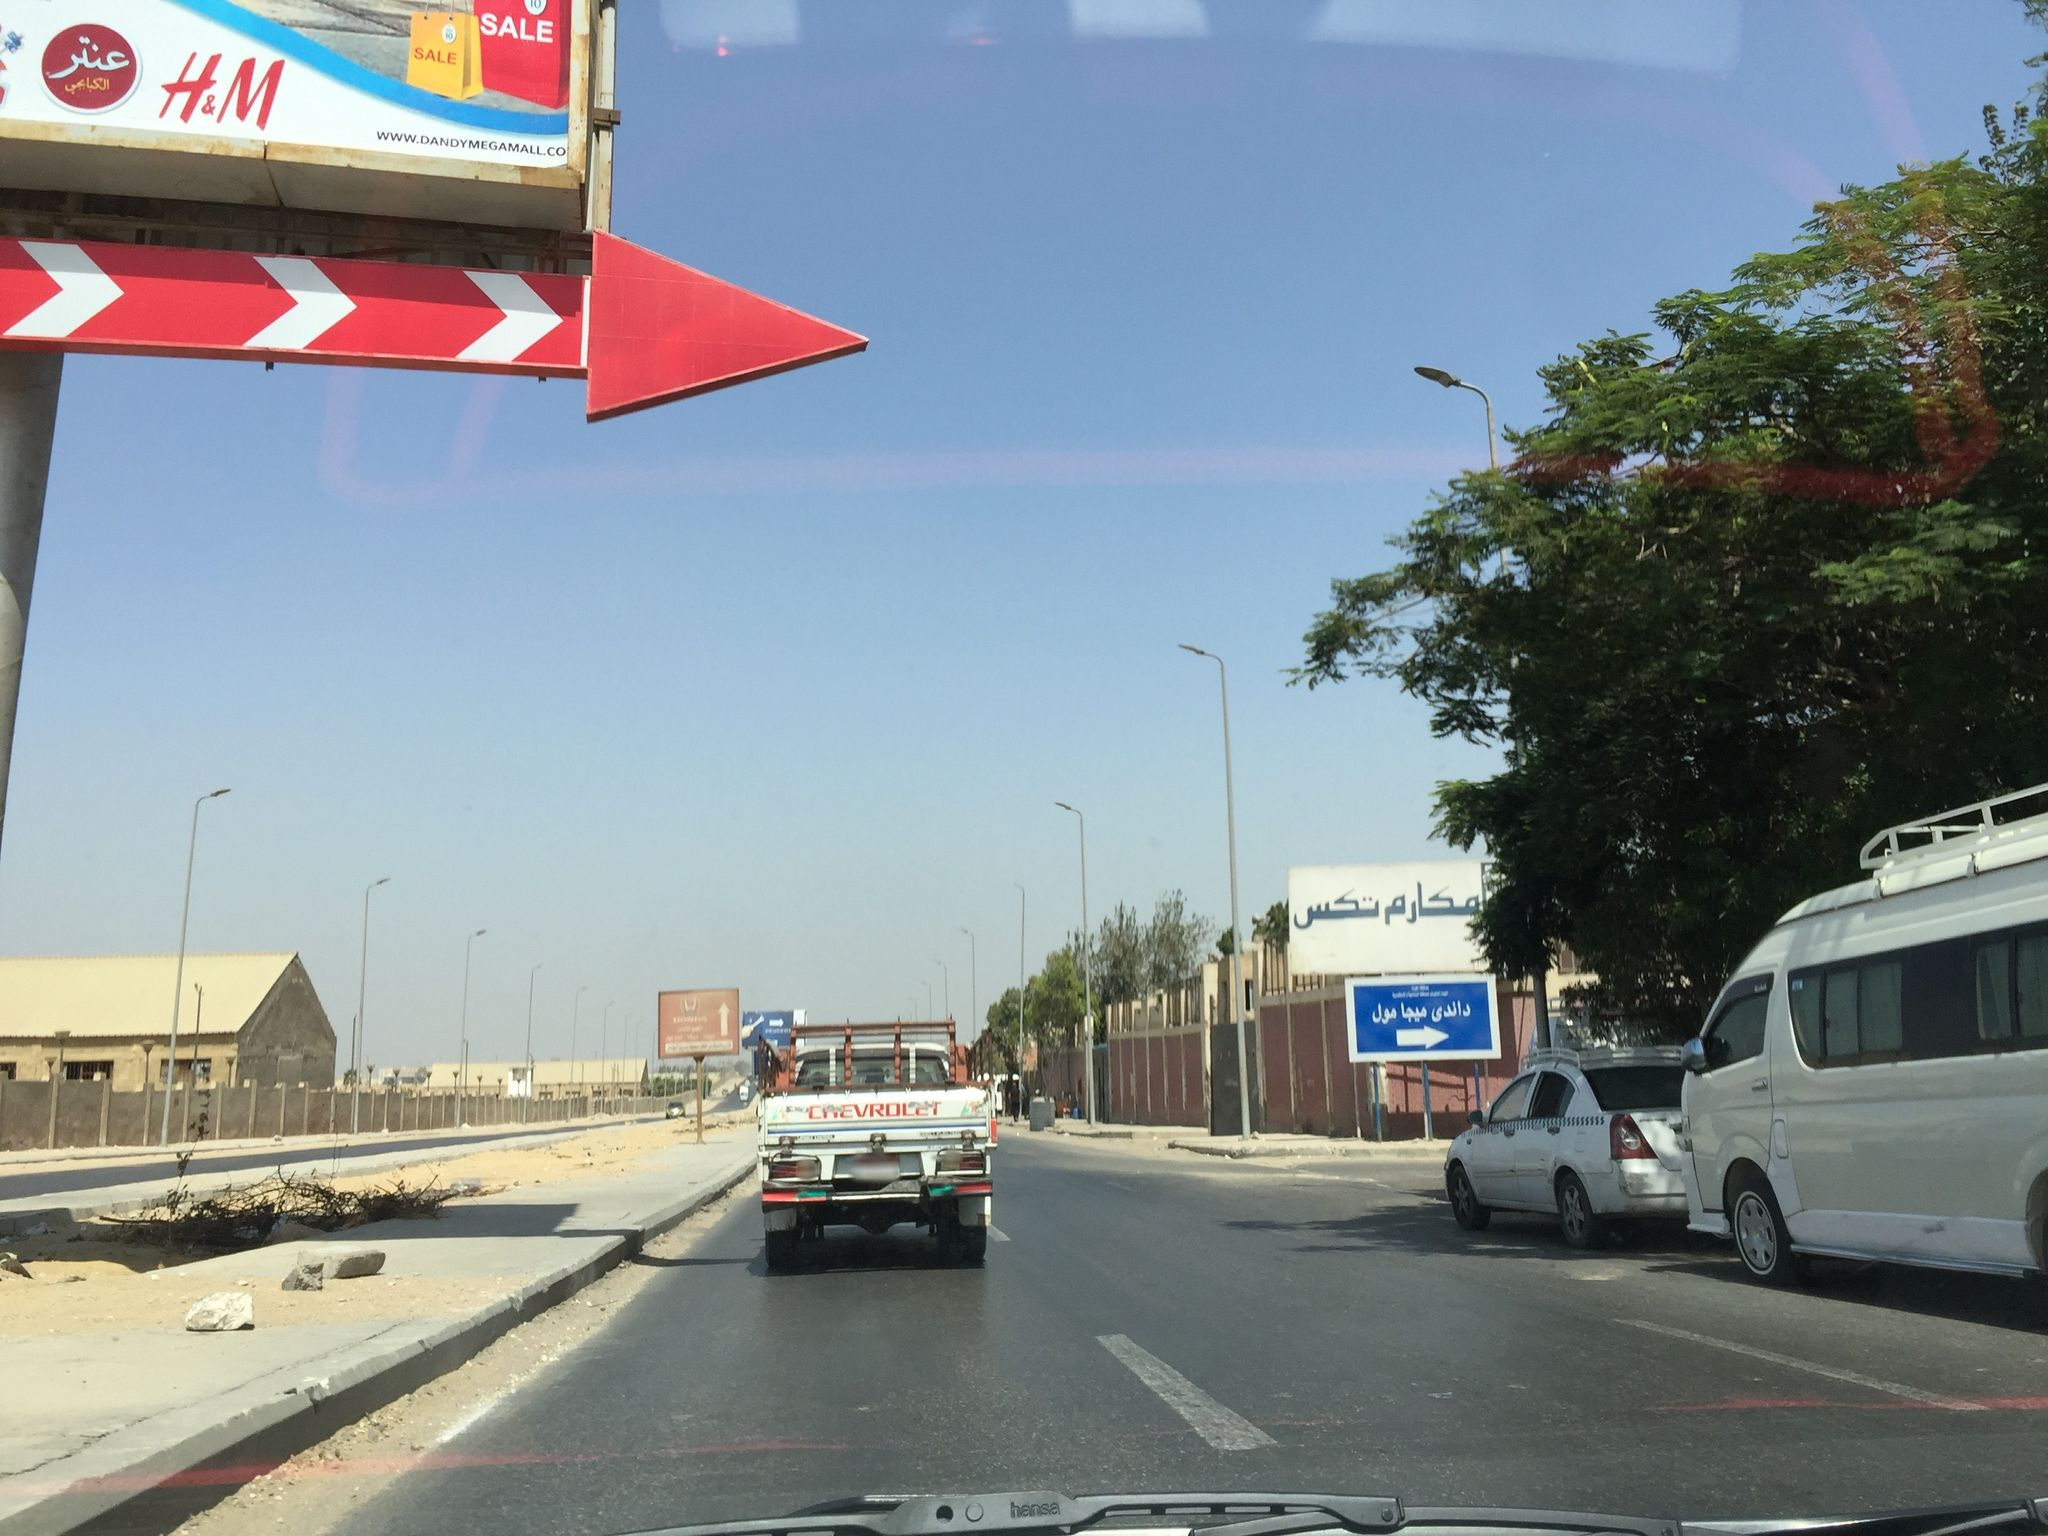car: (1679, 779, 2048, 1296), (1442, 1044, 1693, 1247)
truck: (751, 1016, 998, 1257)
